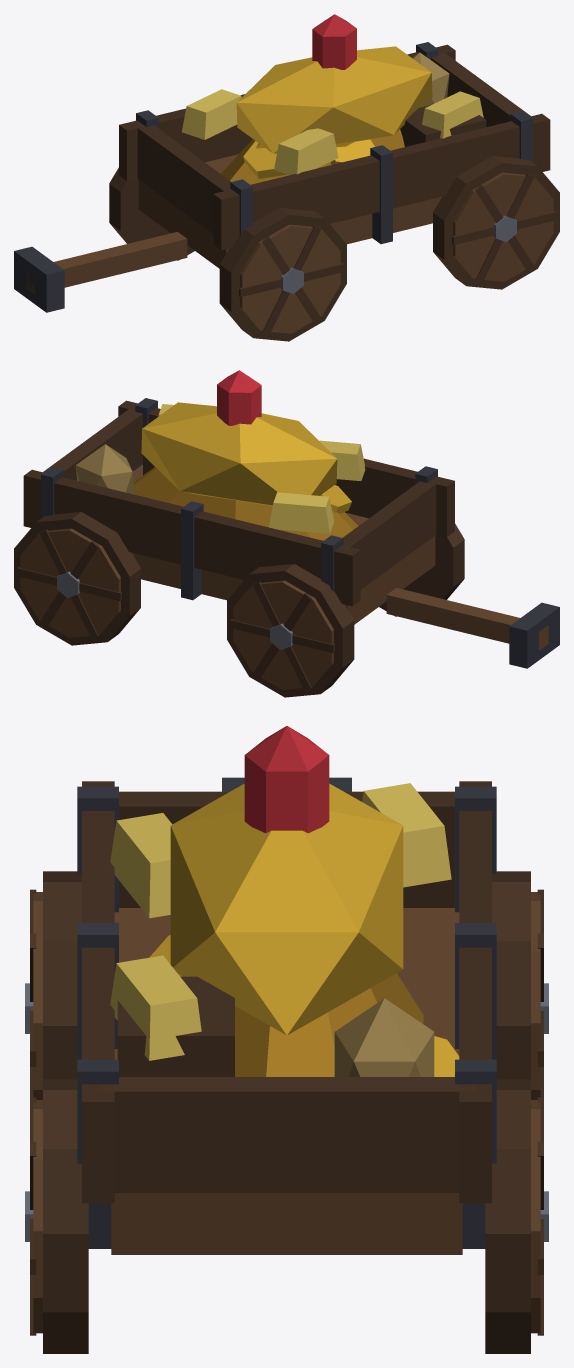
Rendered from Decor_DragonLair_Wagon.fbx.
The picture shows the model from 3 angles, top to bottom: view 1: azimuth 30°, elevation 25°; view 2: azimuth 150°, elevation 25°; view 3: azimuth 270°, elevation 25°; orthographic projection. The views are drawn at different scales.
Visible parts, largest first — view 1: Wagon_Body; view 2: Wagon_Body; view 3: Wagon_Body.
Boxes of the visible parts, x1=… form: Wagon_Body: x1=14, y1=14, x2=559, y2=341; Wagon_Body: x1=14, y1=370, x2=559, y2=697; Wagon_Body: x1=25, y1=726, x2=548, y2=1353.
Bounding box in the file's own units: 15.5 × 8.1 × 7.5.
